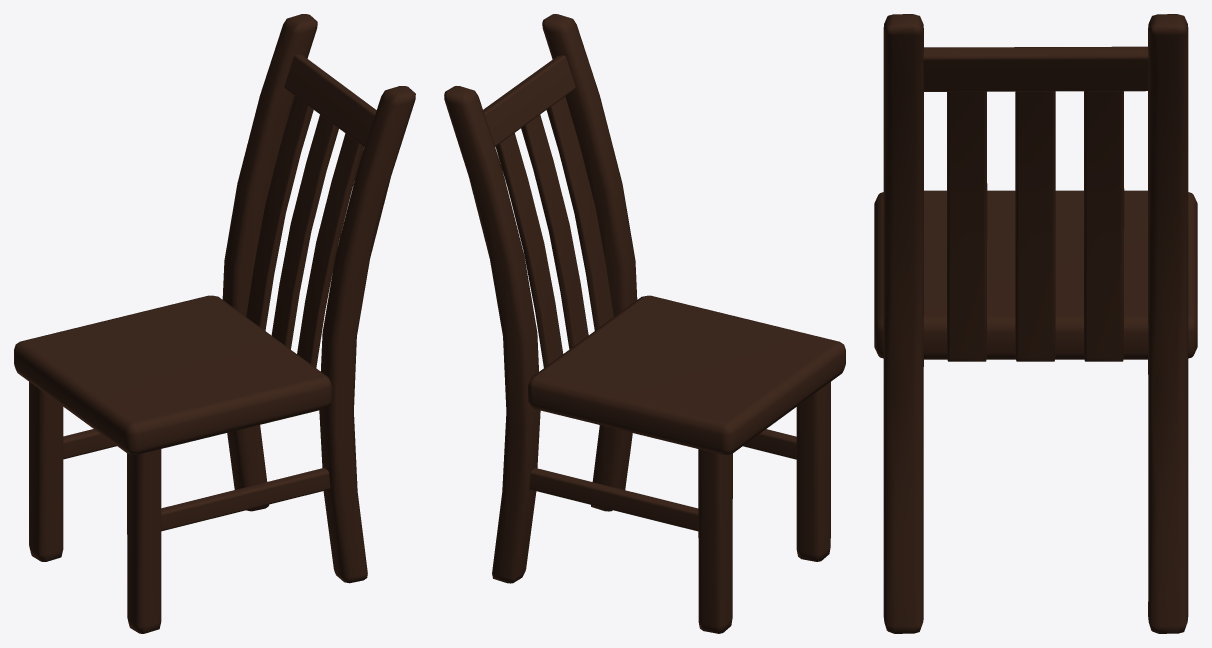
The model's file is chair_04_wooden_dark.fbx.
The picture shows the model from 3 angles, left to right: view 1: azimuth 30°, elevation 25°; view 2: azimuth 150°, elevation 25°; view 3: azimuth 270°, elevation 25°; orthographic projection. The views are drawn at different scales.
Visible parts, largest first — view 1: chair_04_wooden_dark; view 2: chair_04_wooden_dark; view 3: chair_04_wooden_dark.
Part boxes in pixels (x1,y1,x2,y2): chair_04_wooden_dark: [14, 14, 415, 633]; chair_04_wooden_dark: [444, 14, 845, 633]; chair_04_wooden_dark: [874, 14, 1197, 633].
Size of the model in its own units: 67.91 by 106 by 48.29.
1 material, 1 textured.
